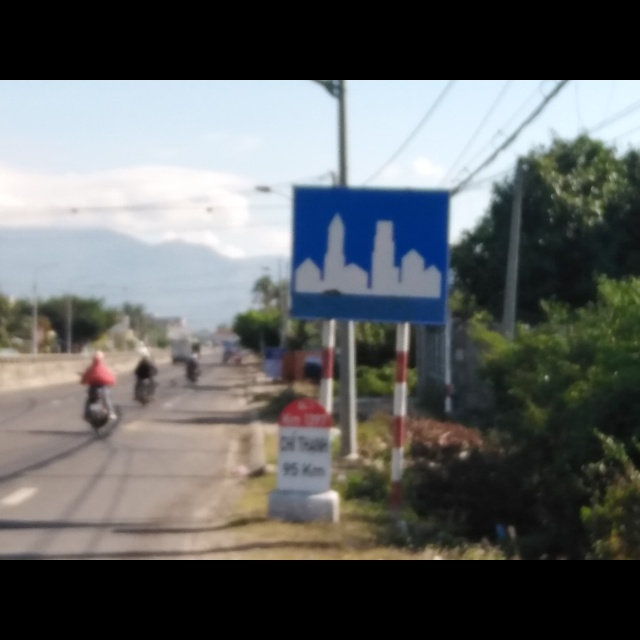Khu đông dân cư: (285, 183, 452, 323)
